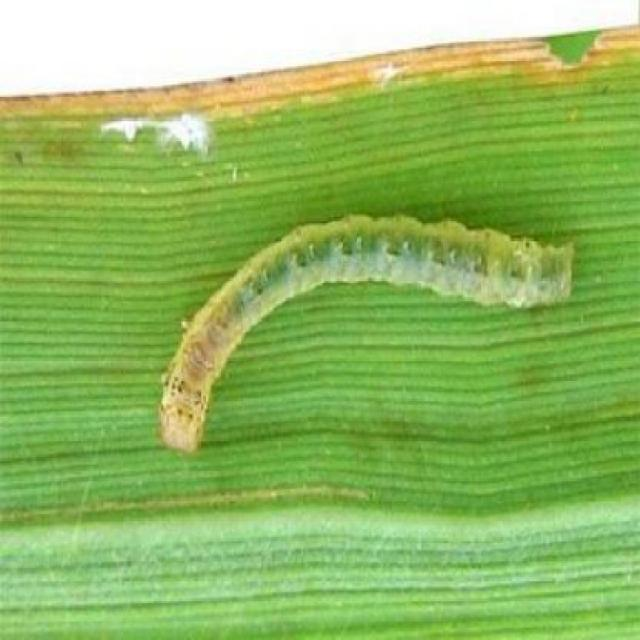leaf-folder: (151, 197, 623, 449)
